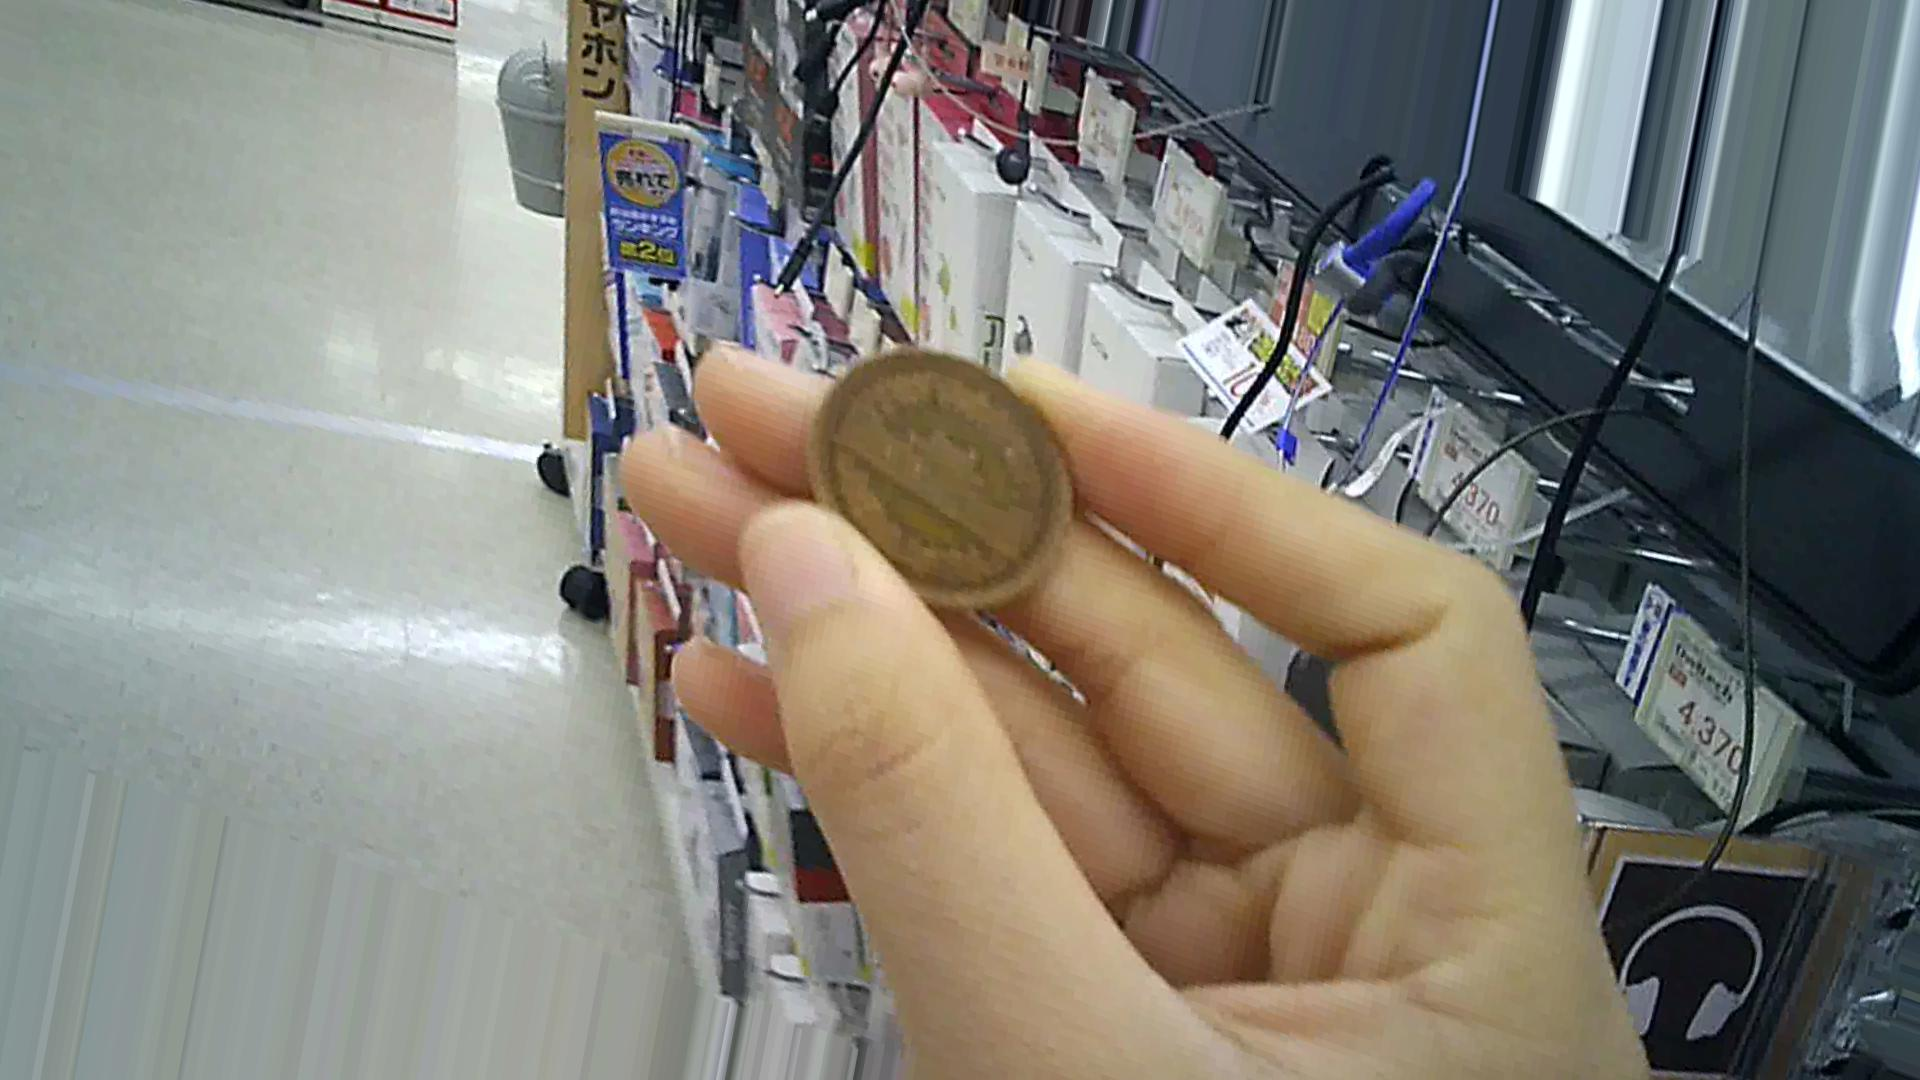10 Yen: (804, 353, 1065, 603)
